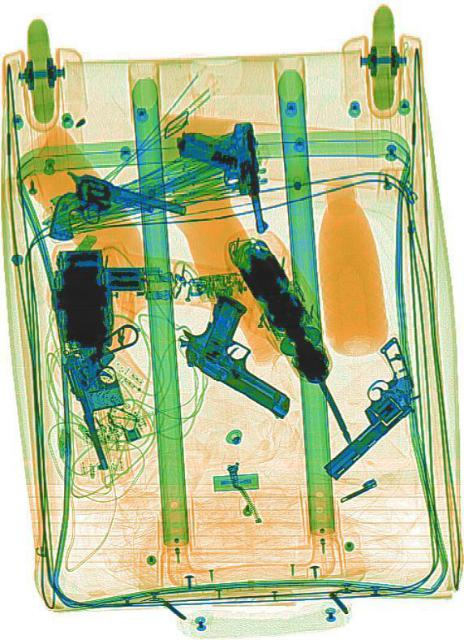Gun: (296, 332, 429, 486), (170, 278, 310, 420), (45, 164, 186, 274), (174, 115, 266, 247), (56, 332, 139, 476)
